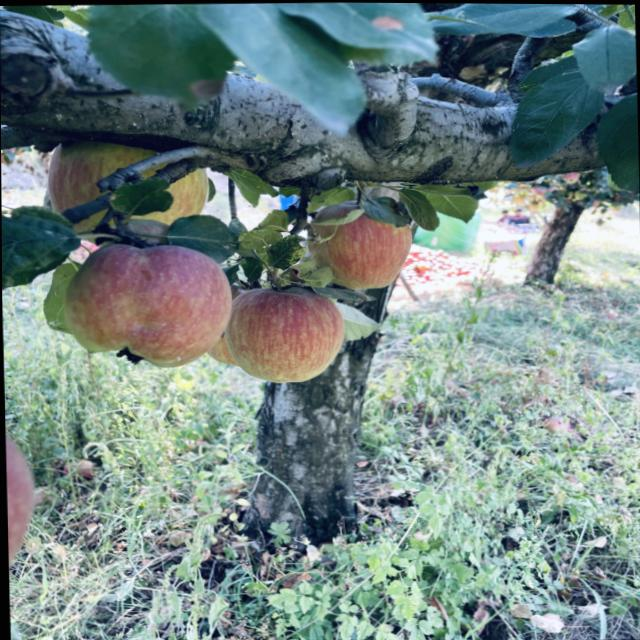Apple: (64, 243, 231, 367), (224, 288, 344, 383), (306, 213, 411, 288), (47, 140, 154, 211), (134, 168, 208, 224), (314, 200, 358, 221), (73, 213, 102, 231), (141, 163, 165, 177)
